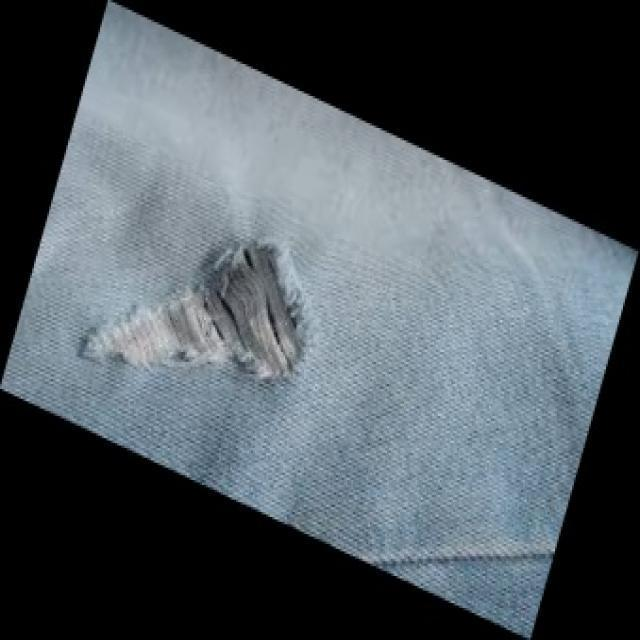other: (78, 193, 340, 434)
